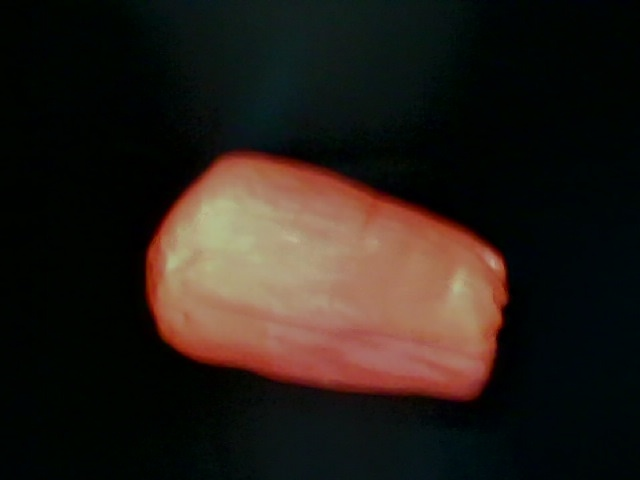YHLJ: (382, 75, 516, 348)
